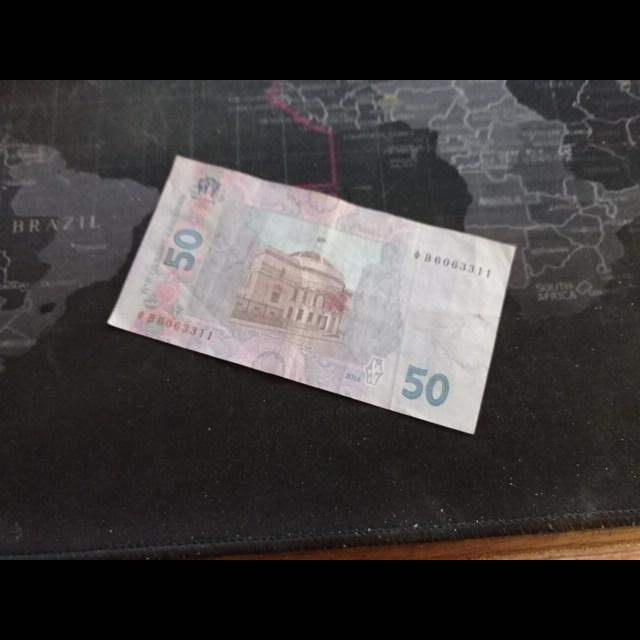50uah: (107, 155, 517, 437)
